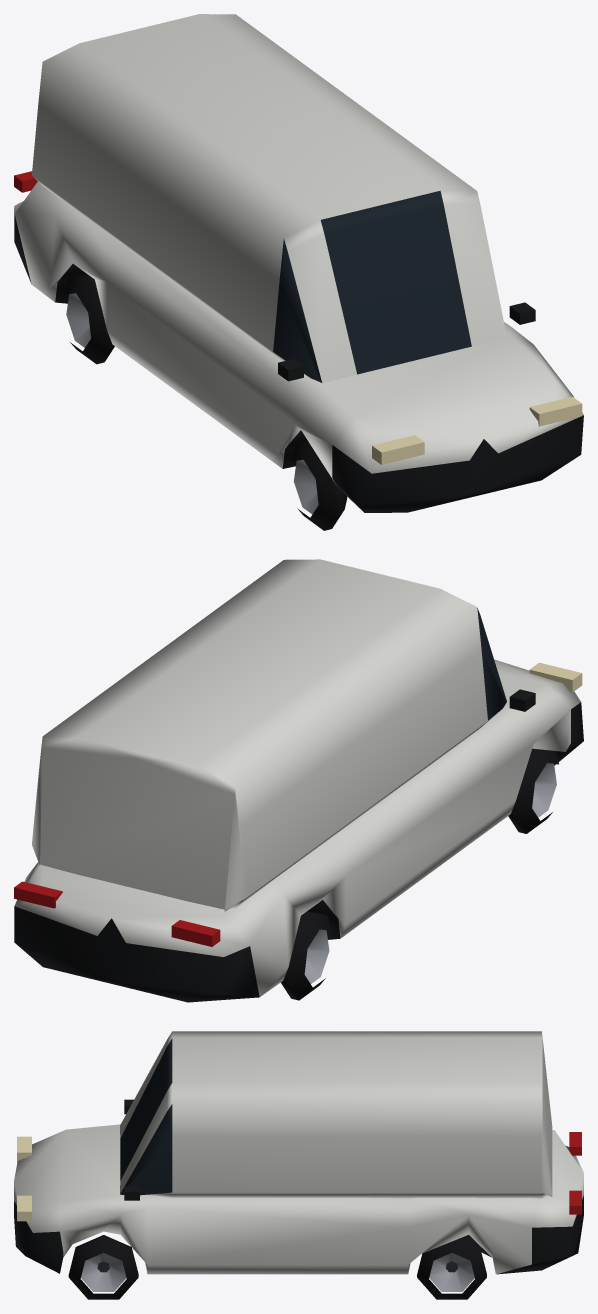
File: mobile-low.glb
3 views of the same model, one above another, from view 1: azimuth 30°, elevation 25°; view 2: azimuth 150°, elevation 25°; view 3: azimuth 270°, elevation 25° (orthographic). The views are drawn at different scales.
Parts seen in each view (by area): view 1: body, tyre_fr, tyre_rr, light_head_r, light_head_l, rim_fr, rim_rr; view 2: body, tyre_rr, tyre_fr, light_brake_r, rim_fr, rim_rr, light_brake_l, light_head_r; view 3: body, tyre_fl, tyre_rl, rim_fl, rim_rl, light_head_l.
Part boxes in pixels (x1,y1,x2,y2): body: (14,14,583,512); tyre_fr: (291,442,347,530); tyre_rr: (64,275,114,364); light_head_r: (372,435,424,464); light_head_l: (529,396,582,426); rim_fr: (293,459,318,514); rim_rr: (66,293,90,347); body: (14,559,583,1002); tyre_rr: (281,911,331,1000); tyre_fr: (508,748,558,833); light_brake_r: (171,920,220,946); rim_fr: (532,763,556,817); rim_rr: (304,929,329,983); light_brake_l: (14,881,62,908); light_head_r: (529,662,582,692); body: (14,1031,583,1274); tyre_fl: (68,1235,138,1299); tyre_rl: (417,1238,486,1299); rim_fl: (81,1252,126,1291); rim_rl: (429,1253,474,1291); light_head_l: (17,1195,31,1221).
Size of what is drawn, in the model's own units: 2.07 by 2.07 by 5.4.
